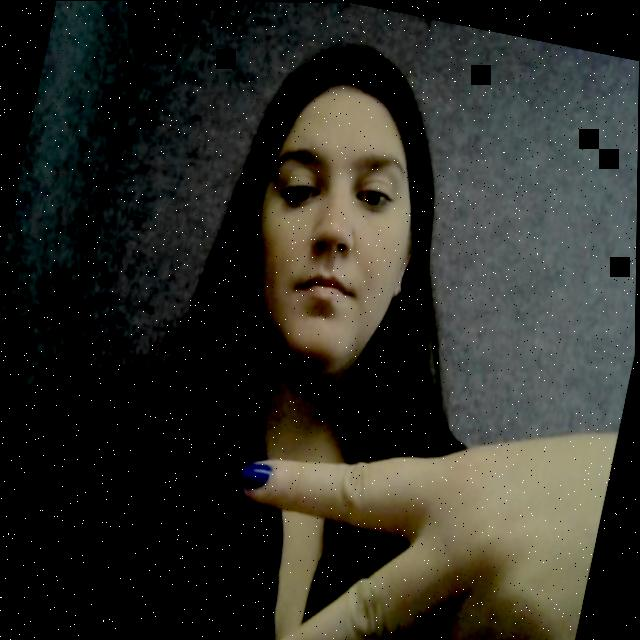Scissors: (211, 412, 588, 640)
